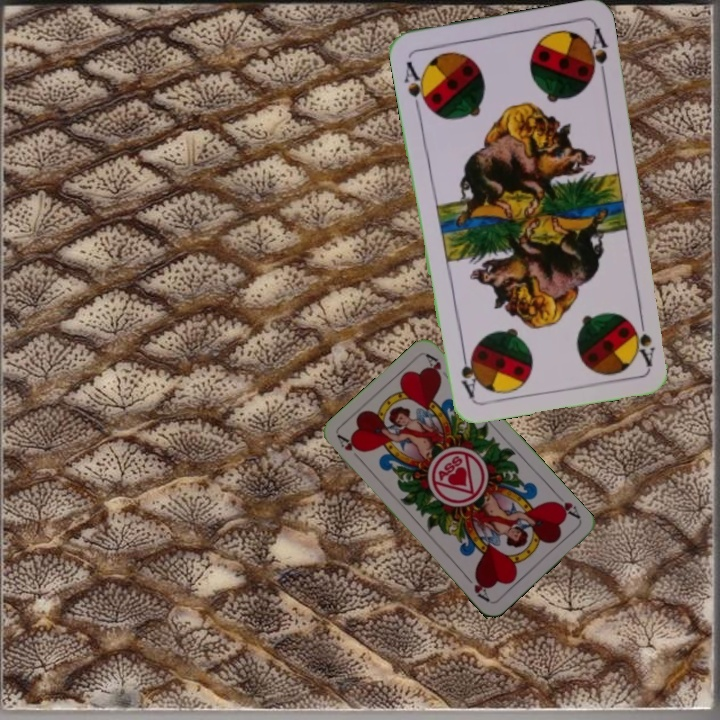HA: (334, 431, 366, 465), (549, 497, 583, 522)
SA: (400, 57, 432, 113), (629, 309, 658, 369)
